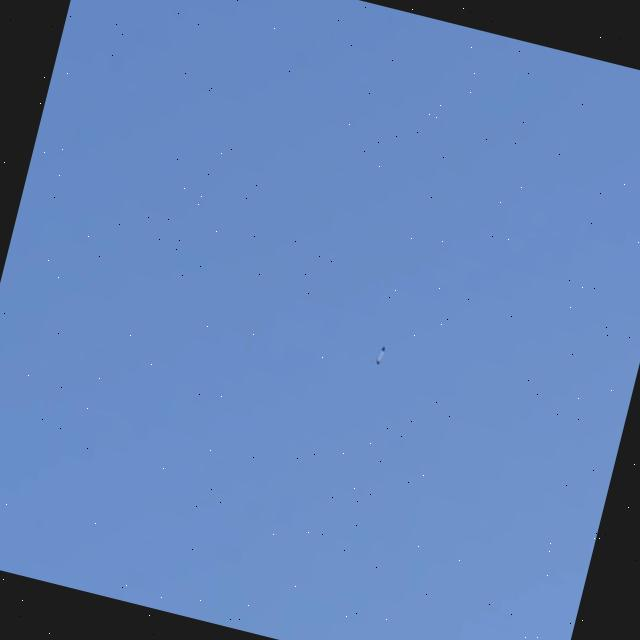rocket: (374, 345, 386, 366)
